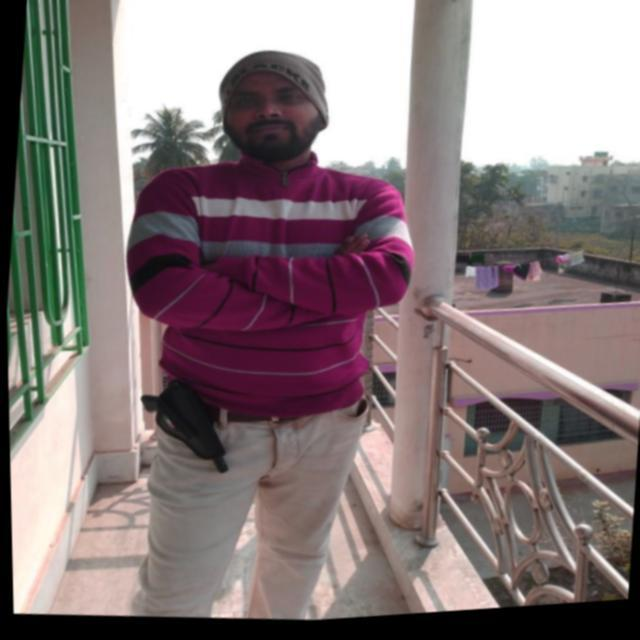weapon: (125, 372, 246, 486)
